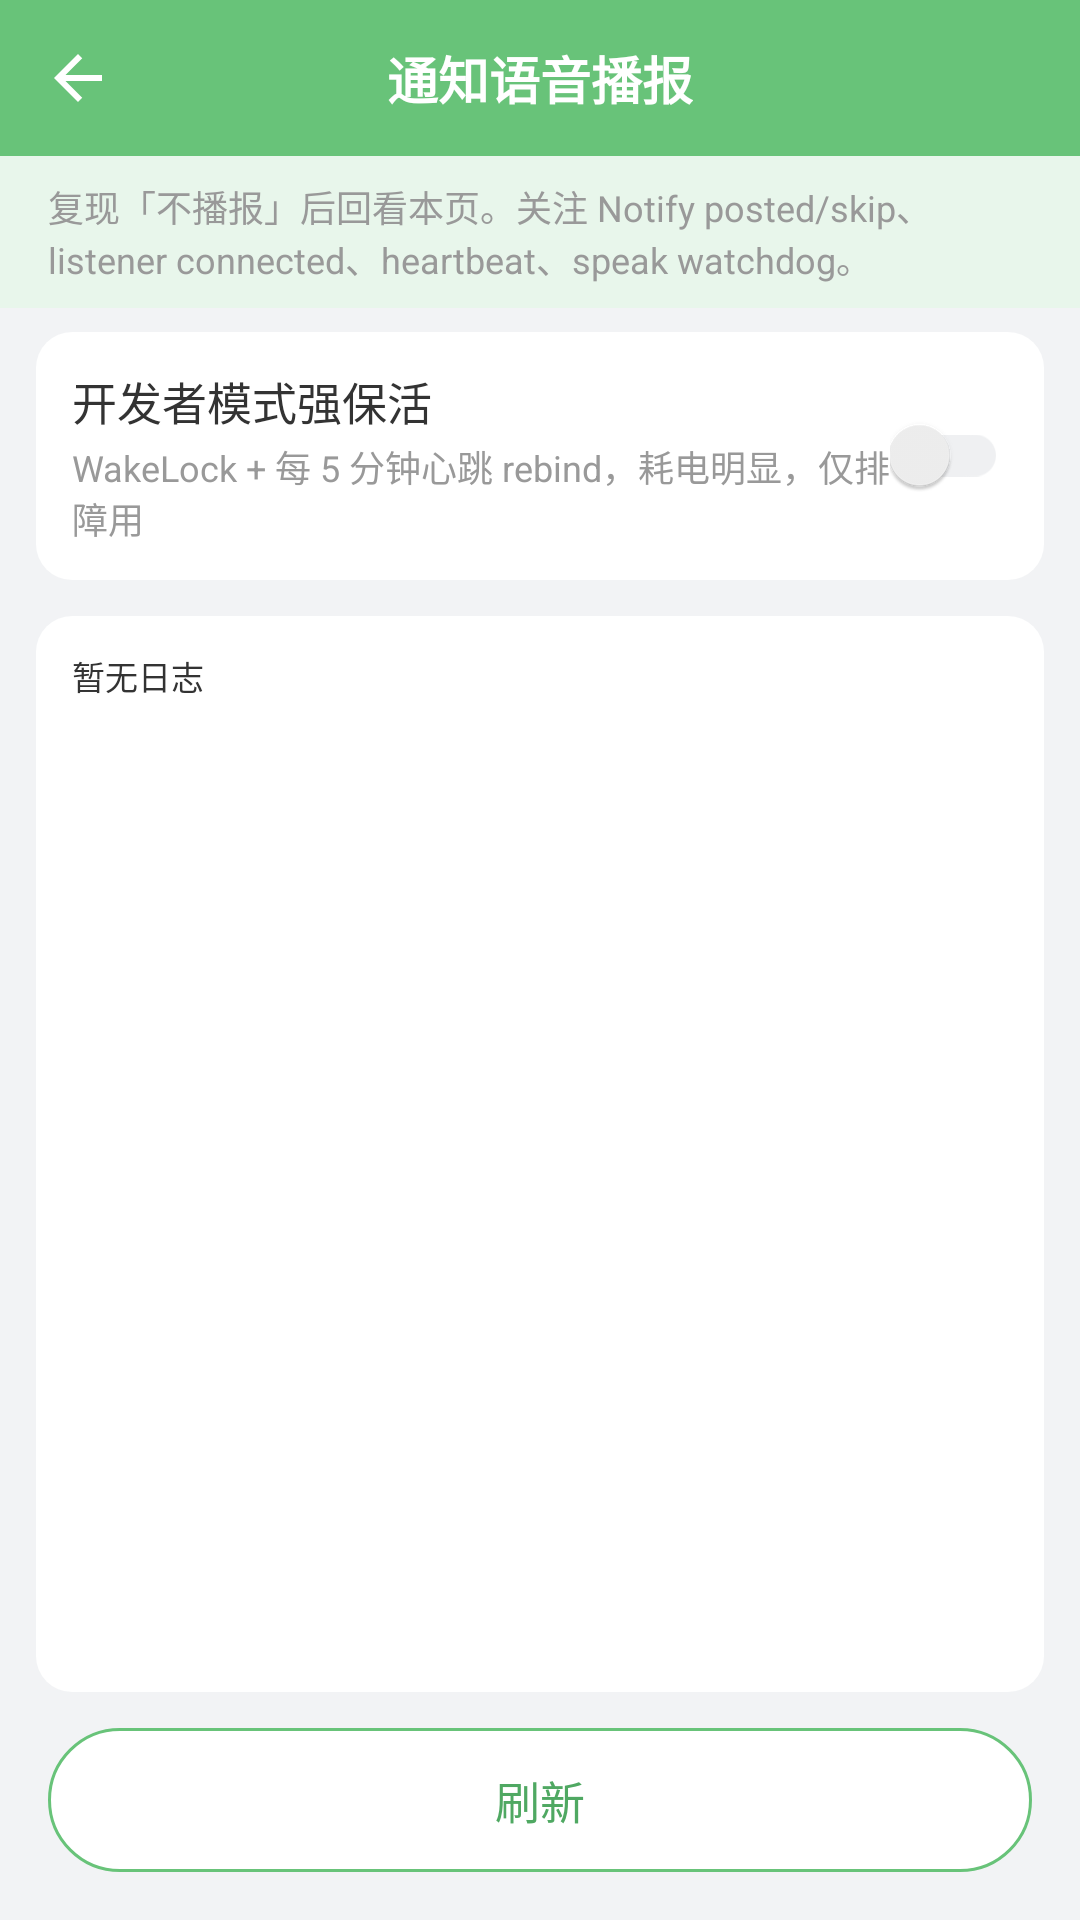

Named icons in this screenshot (1080 x 1920) and their centers, (x=x, y=y):
back: (x=78, y=78)
